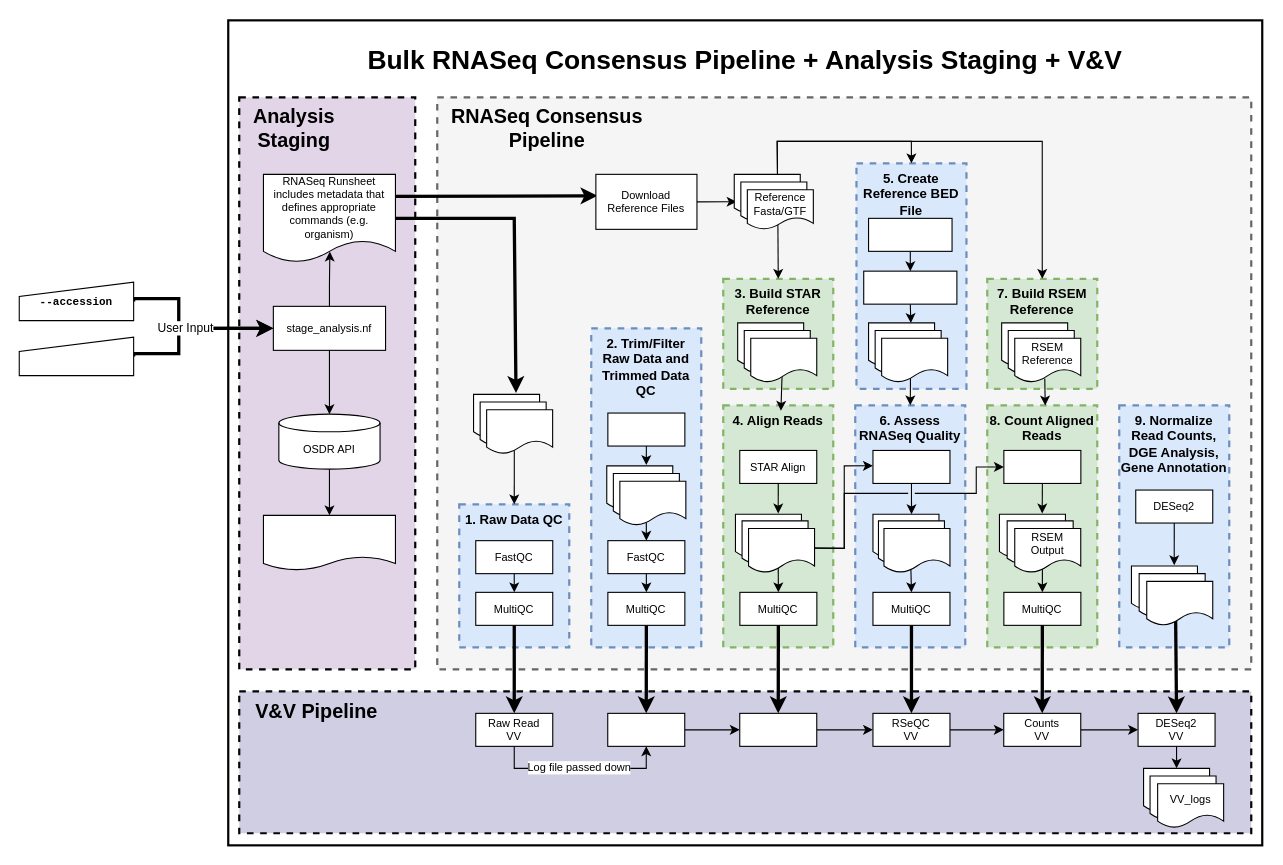
The diagram is 1283 pixels wide and 865 high, and some of its shapes have lost their labels. Each missing label, with the centre of its shape:
"--ensemblVersion" belongs at pixel 76 356.
"Aligner VV" belongs at pixel 778 729.
"BED Reference" belongs at pixel 914 359.
"DESeq2 Output" belongs at pixel 1179 602.
"genePredToBed" belongs at pixel 910 287.
"gtfToGenePred" belongs at pixel 909 234.
"OSDR URLs to Raw Reads Files" belongs at pixel 328 542.
"Raw Reads" belongs at pixel 519 431.
"RSEM Count" belongs at pixel 1042 466.
"RSeQC" belongs at pixel 911 466.
"RSeQC Output" belongs at pixel 916 550.
"STAR Output" belongs at pixel 781 550.
"STAR Reference" belongs at pixel 783 359.
"TrimGalore!" belongs at pixel 646 429.
"Trimmed Read VV" belongs at pixel 646 729.
"Trimmed Reads" belongs at pixel 652 502.
